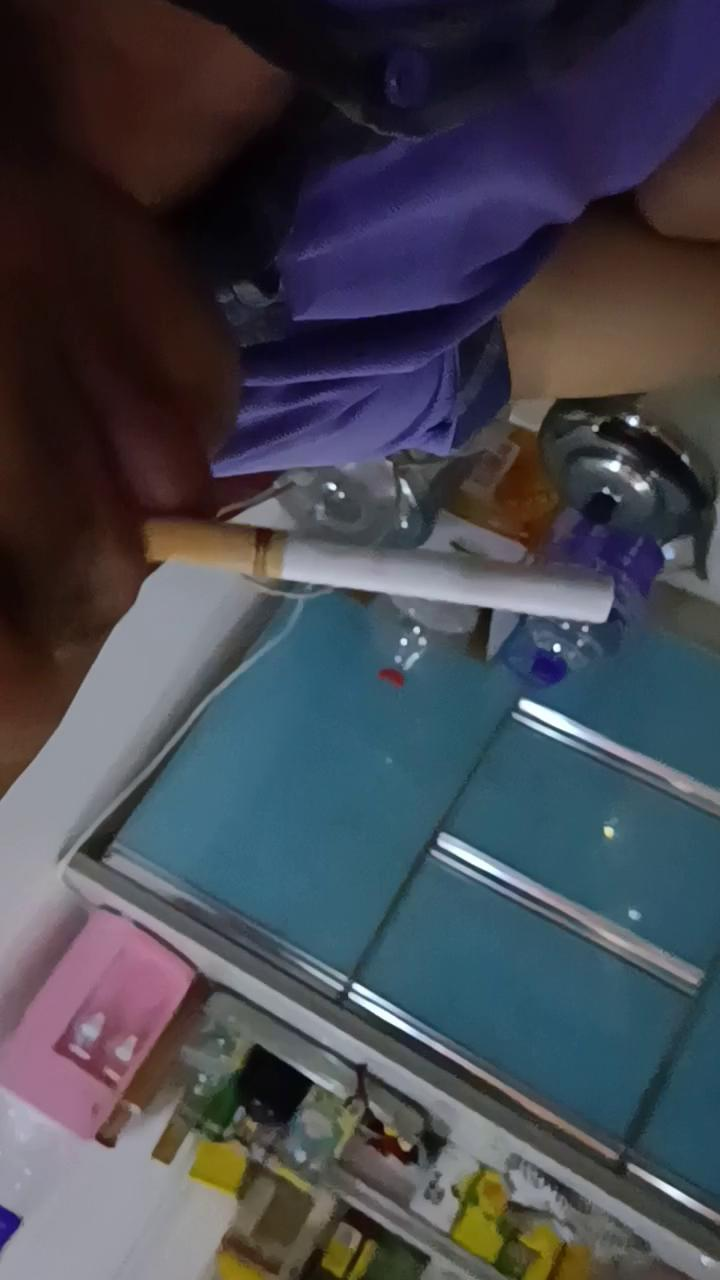smoke: (145, 518, 618, 625)
